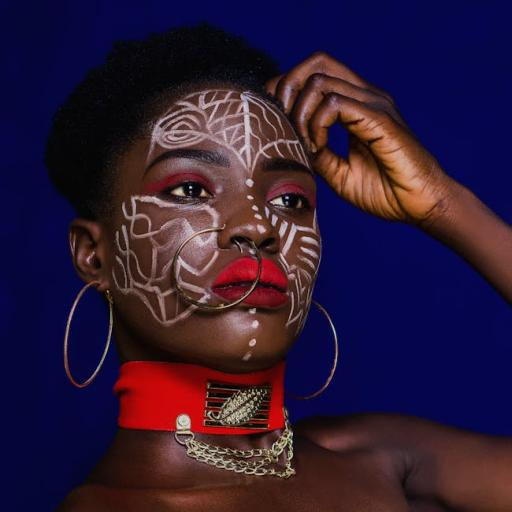lipstick: (244, 259, 288, 307)
